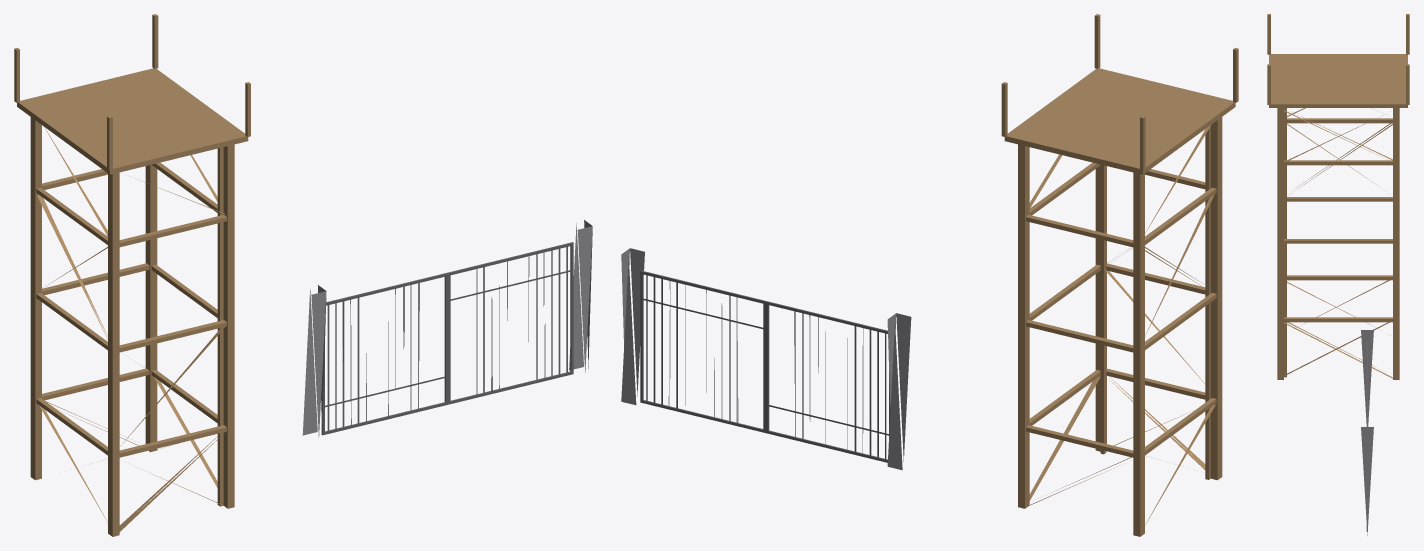
Rendered from fb_gate_assembly.glb.
The picture shows the model from 3 angles, left to right: view 1: azimuth 30°, elevation 25°; view 2: azimuth 150°, elevation 25°; view 3: azimuth 270°, elevation 25°; orthographic projection. The views are drawn at different scales.
Visible parts, largest first — view 1: fb_gate_tower, fb_gate_leaf_l, fb_gate_leaf_r, fb_gate_post_l, fb_gate_post_r; view 2: fb_gate_tower, fb_gate_leaf_r, fb_gate_leaf_l, fb_gate_post_l, fb_gate_post_r; view 3: fb_gate_tower, fb_gate_post_r, fb_gate_post_l.
Boxes of the visible parts, x1,y1,x2,y2 form: fb_gate_tower: (14,14,250,536); fb_gate_leaf_l: (321,272,448,435); fb_gate_leaf_r: (448,242,573,404); fb_gate_post_l: (302,285,326,436); fb_gate_post_r: (569,220,592,372); fb_gate_tower: (1001,14,1238,536); fb_gate_leaf_r: (640,270,766,432); fb_gate_leaf_l: (766,301,890,462); fb_gate_post_l: (887,313,911,470); fb_gate_post_r: (621,248,644,405); fb_gate_tower: (1267,14,1409,379); fb_gate_post_r: (1361,427,1373,535); fb_gate_post_l: (1361,330,1373,426).
Size of what is drawn, in the model's own units: 10.87 by 8.26 by 3.28.
